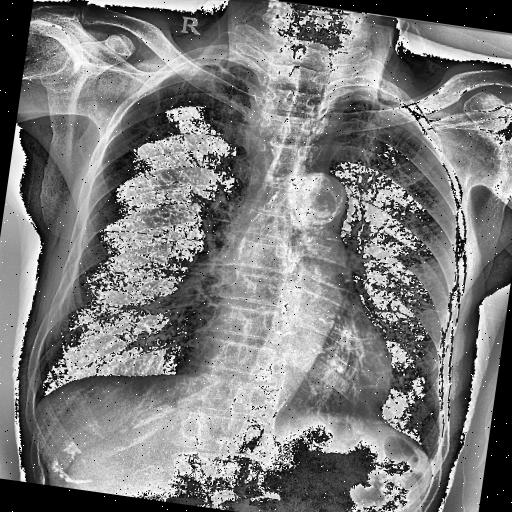0- Aortic enlargement: (273, 162, 367, 235)
11- Pleural thickening: (318, 74, 432, 122), (169, 50, 264, 92), (343, 88, 419, 126), (172, 51, 240, 85)
2- Calcification: (292, 163, 358, 231), (284, 166, 350, 226)
